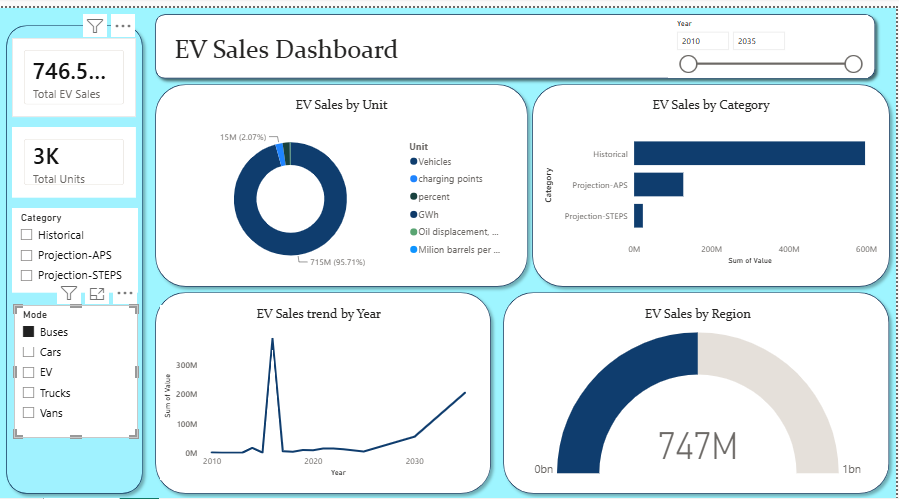

The dashboard page shown, as its layout file describes it:
{"tool":"powerbi","page":{"name":"Page 1","canvas":[1280,720],"ordinal":0},"visuals":[{"type":"shape","box":[0,15.7,212.9,687.1],"z":0},{"type":"shape","box":[212.2,0,1046.3,109.8],"z":1000},{"type":"shape","box":[212.2,396.6,497.6,305.9],"z":2000},{"type":"lineChart","title":"EV Sales trend by Year","fields":{"Category":["Sheet1.Year"],"Y":["Sum(Sheet1.Value)"]},"box":[228.3,424.4,453.7,250.2],"z":3000},{"type":"shape","box":[709.8,396.6,569.3,305.9],"z":4000},{"type":"gauge","title":"EV Sales by Region","fields":{"Y":["Sum(Sheet1.Value)"]},"box":[736.1,424.4,522.4,250.2],"z":5000},{"type":"shape","box":[212.9,100,550,307.1],"z":6000},{"type":"shape","box":[751.4,100,528.6,307.1],"z":7000},{"type":"barChart","title":"EV Sales by Category","fields":{"Category":["Sheet1.Category"],"Y":["Sum(Sheet1.Value)"]},"box":[772.9,125.7,485.7,245.7],"z":8000},{"type":"donutChart","title":"EV Sales by Unit","fields":{"Category":["Sheet1.Unit"],"Y":["Sum(Sheet1.Value)"]},"box":[240,125.7,495.7,260],"z":9000},{"type":"textbox","box":[244.3,30,347.1,55.7],"z":10000},{"type":"cardVisual","fields":{"Data":["Sheet1.Total EV Sales"]},"box":[17.6,42.4,177.1,112.7],"z":11000},{"type":"cardVisual","fields":{"Data":["Sheet1.Total Units"]},"box":[17.6,169.8,177.1,101],"z":12000},{"type":"slicer","fields":{"Values":["Sheet1.Category"]},"box":[17.6,285.4,180,121.5],"z":13000},{"type":"slicer","fields":{"Values":["Sheet1.Mode"]},"box":[20.5,424.4,177.1,190.2],"z":14000},{"type":"slicer","fields":{"Values":["Sheet1.Year"]},"box":[954.1,10.2,285.4,89.3],"z":14001}]}

Visuals, with their boxes in screenshot pixels (x1, y1, x2, y2):
shape: 9/20/155/489
shape: 154/9/869/84
shape: 154/280/494/489
"EV Sales trend by Year" lineChart: 165/299/475/470
shape: 494/280/883/489
"EV Sales by Region" gauge: 512/299/869/470
shape: 155/78/530/287
shape: 523/78/884/287
"EV Sales by Category" barChart: 537/95/869/263
"EV Sales by Unit" donutChart: 173/95/512/273
textbox: 176/30/413/68
cardVisual - Sheet1.Total EV Sales: 21/38/142/115
cardVisual - Sheet1.Total Units: 21/125/142/194
slicer - Sheet1.Category: 21/204/144/287
slicer - Sheet1.Mode: 23/299/144/429
slicer - Sheet1.Year: 661/16/856/77
